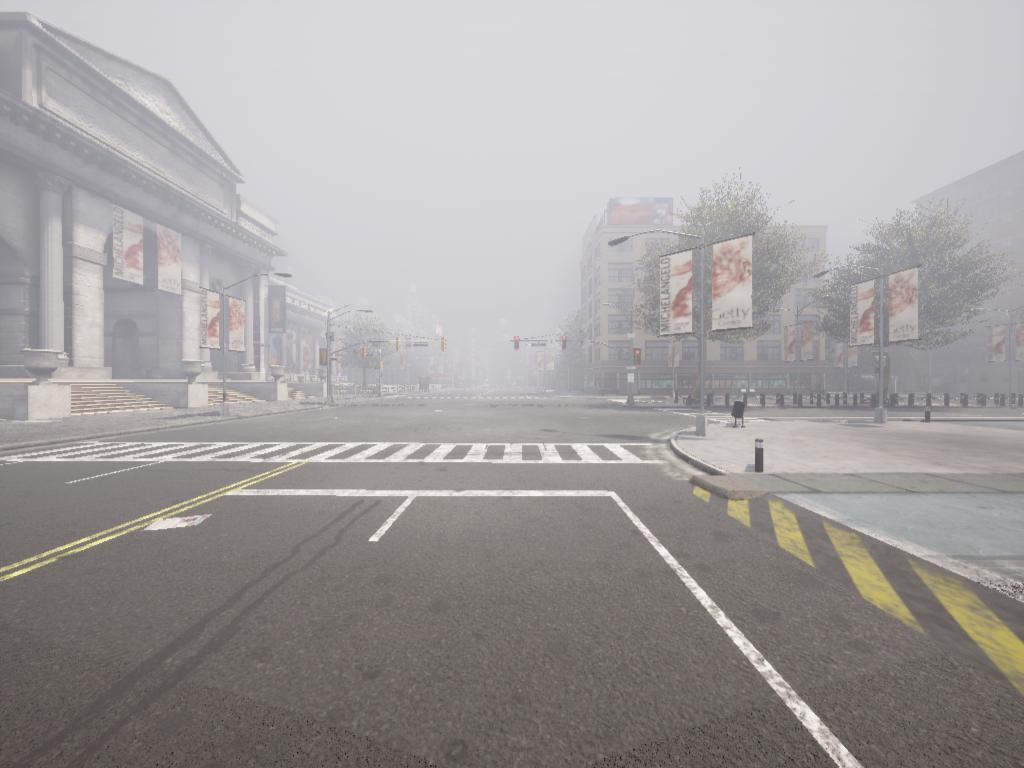traffic_light: (635, 351, 643, 366), (441, 337, 449, 352), (512, 336, 520, 349), (396, 337, 402, 352), (563, 337, 568, 351), (364, 345, 369, 358)
